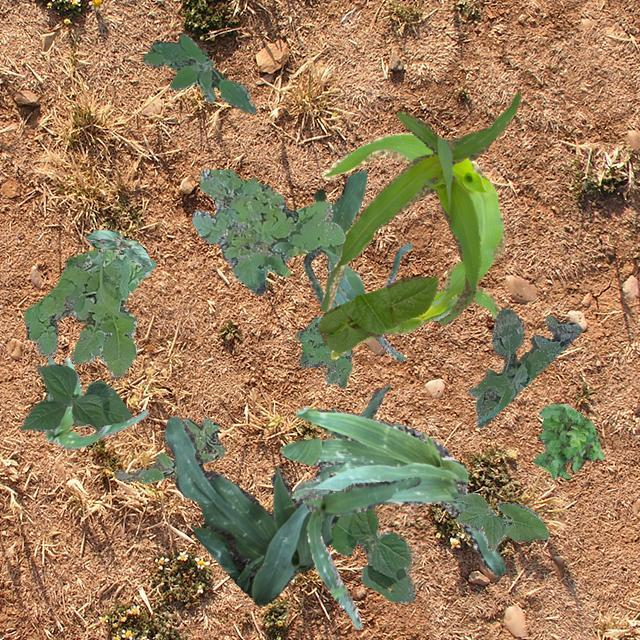crop: (164, 384, 388, 604), (320, 92, 520, 324), (320, 132, 507, 358), (280, 406, 504, 574), (304, 168, 404, 360), (302, 476, 419, 628), (303, 242, 449, 320), (45, 356, 146, 448), (318, 276, 438, 350), (330, 506, 414, 602), (20, 364, 130, 431), (452, 492, 548, 550), (84, 228, 150, 266)
weed: (190, 168, 344, 294), (23, 248, 156, 378), (468, 306, 582, 426), (142, 34, 255, 112), (114, 417, 224, 482), (532, 402, 604, 478), (294, 304, 350, 386)
